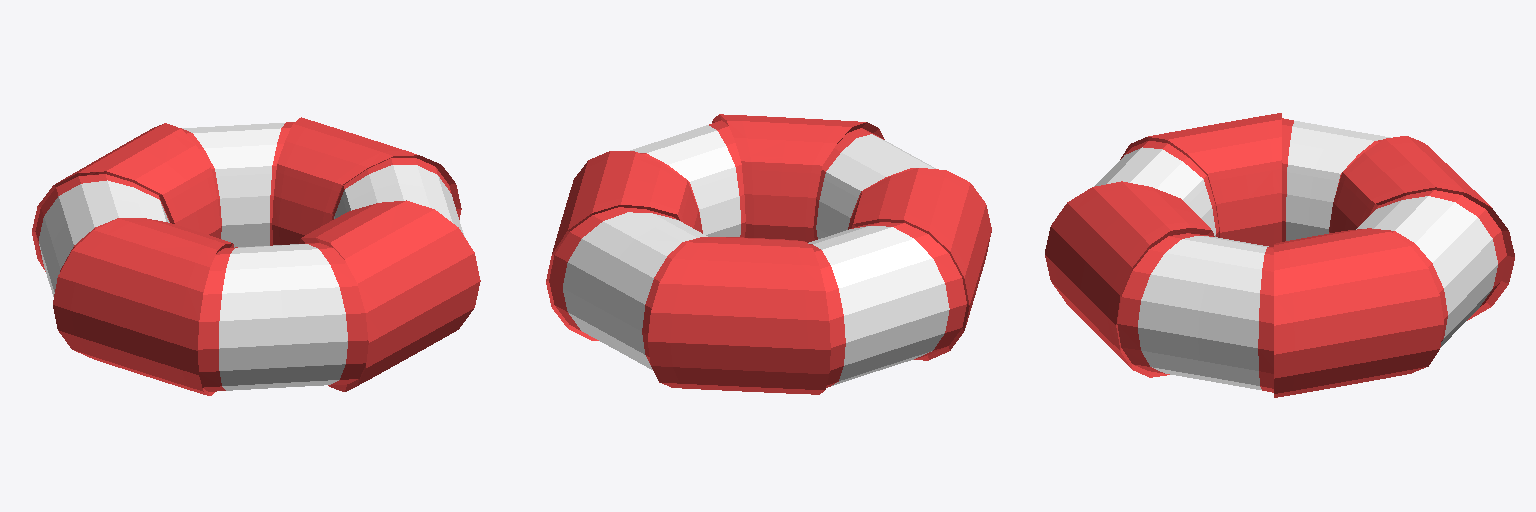
3 renders of one model, left to right at view 1: azimuth 30°, elevation 25°; view 2: azimuth 150°, elevation 25°; view 3: azimuth 270°, elevation 25°, orthographic.
Visible parts, largest first — view 1: pTorus1; view 2: pTorus1; view 3: pTorus1.
Boxes of the visible parts, x1=… form: pTorus1: x1=32, y1=117, x2=480, y2=395; pTorus1: x1=546, y1=114, x2=991, y2=394; pTorus1: x1=1045, y1=113, x2=1514, y2=397.
Size of the model in its own units: 9.48 by 3.24 by 9.55.
1 materials, 1 textured.